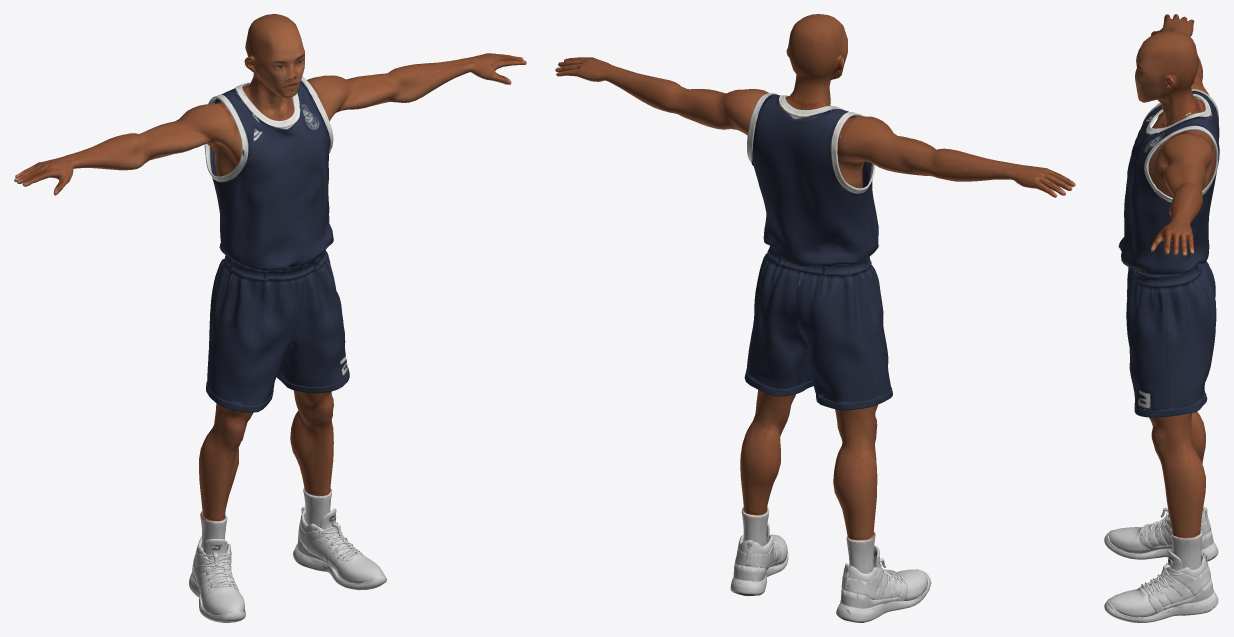
Rendered from jersey.glb.
The picture shows the model from 3 angles, left to right: view 1: azimuth 30°, elevation 25°; view 2: azimuth 150°, elevation 25°; view 3: azimuth 270°, elevation 25°; orthographic projection. The views are drawn at different scales.
Visible parts, largest first — view 1: short, shirt, lefthand, righthand, head, rightleg, leftlegs, backshoesreight, backshoes, jersey_armband_r, shoes front r, shoes front l (+3 smaller); view 2: short, shirt, lefthand, righthand, leftlegs, head, rightleg, backshoes, backshoesreight, shoesoutsole_r, socks_r, jersey_armband_r (+2 smaller); view 3: short, shirt, head, righthand, rightleg, backshoesreight, shoesoutsole_l, backshoes, shoes front l, socks_left, lefthand, shoes front r (+6 smaller).
Boxes of the visible parts, x1,y1,x2,y2 form: short: (206,250,349,412); shirt: (210,81,333,271); lefthand: (14,101,241,195); righthand: (307,53,526,121); head: (242,14,304,127); rightleg: (290,390,346,561); leftlegs: (199,403,252,585); backshoesreight: (297,509,362,570); backshoes: (192,536,238,601); jersey_armband_r: (204,94,248,182); shoes front r: (202,581,244,615); shoes front l: (336,550,383,583); short: (744,246,892,410); shirt: (752,95,878,266); lefthand: (830,116,1075,197); righthand: (555,57,768,135); leftlegs: (833,401,900,592); head: (779,14,864,187); rightleg: (740,280,799,559); backshoes: (840,563,907,608); backshoesreight: (733,535,781,581); shoesoutsole_r: (836,573,931,622); socks_r: (846,531,875,573); jersey_armband_r: (831,112,875,193); short: (1126,261,1216,417); shirt: (1118,91,1219,275); head: (1134,31,1215,272); righthand: (1149,132,1212,256); rightleg: (1134,267,1205,605); backshoesreight: (1141,554,1213,612); shoesoutsole_l: (1104,591,1218,622); backshoes: (1139,507,1213,550); shoes front l: (1108,584,1157,617); socks_left: (1171,531,1202,569); lefthand: (1151,14,1209,119); shoes front r: (1107,525,1153,553).
Bounding box in the file's own units: 0.9316 × 1 × 0.19.
Materials: 1 (1 with a texture image).
